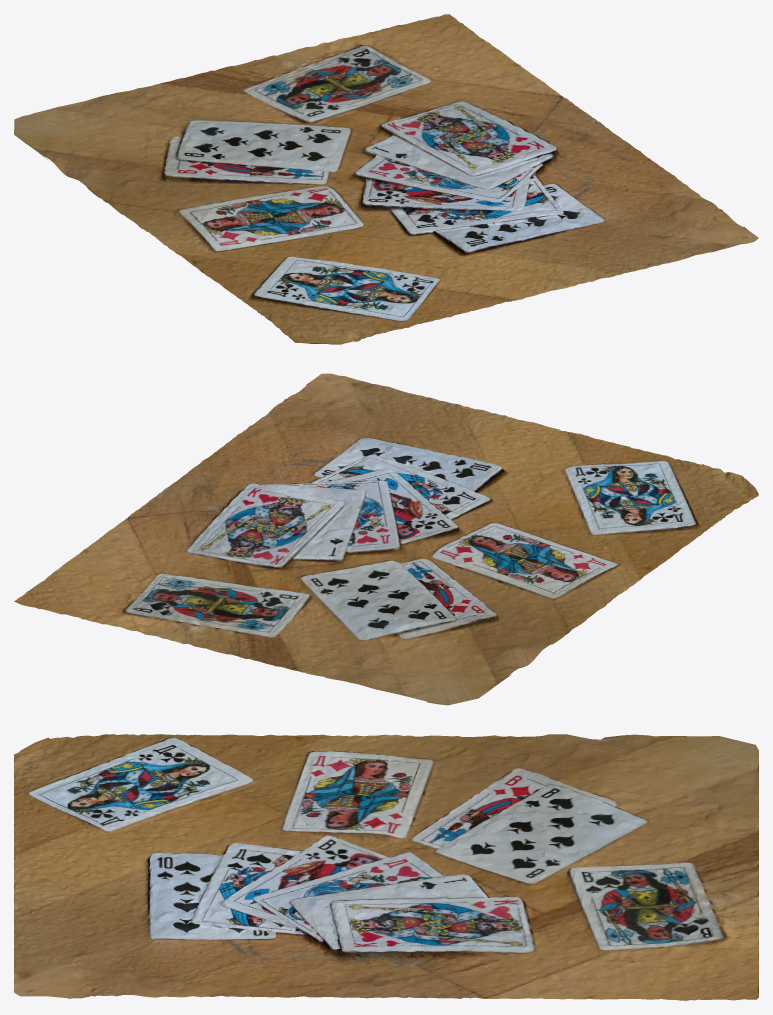
3 renders of one model, top to bottom at view 1: azimuth 30°, elevation 25°; view 2: azimuth 150°, elevation 25°; view 3: azimuth 270°, elevation 25°, orthographic. The views are drawn at different scales.
Size of the model in its own units: 0.2758 by 0.00691 by 0.3311.
1 material, 1 textured.
